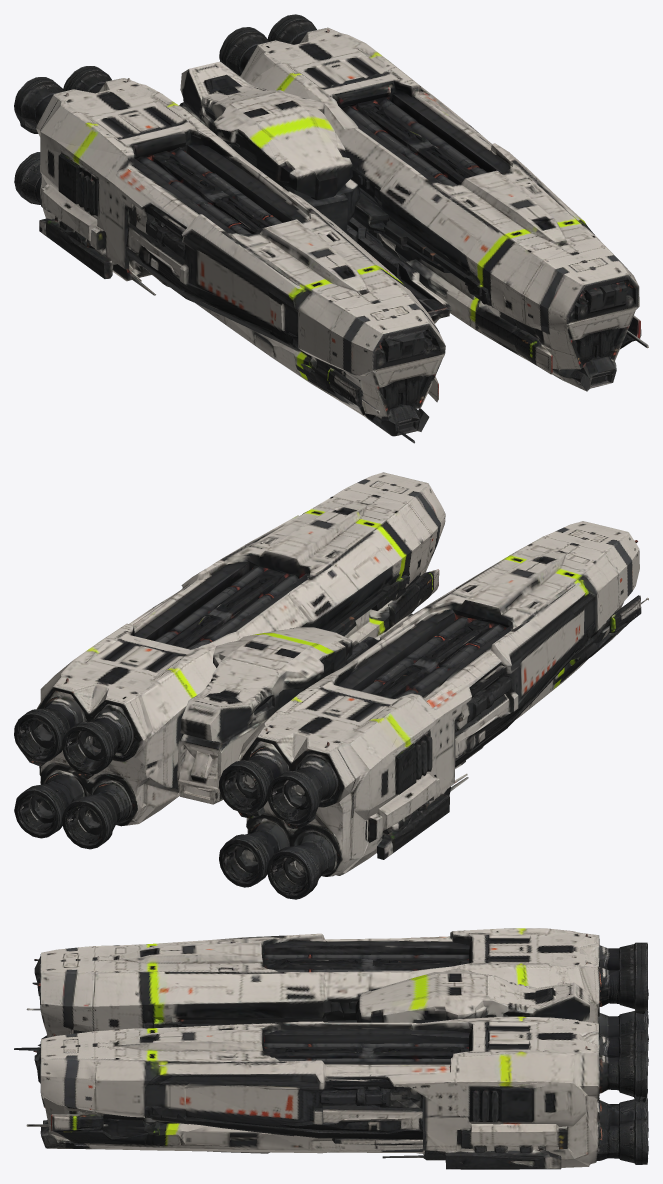
File: v4-carrier.glb
3 renders of one model, top to bottom at view 1: azimuth 30°, elevation 25°; view 2: azimuth 150°, elevation 25°; view 3: azimuth 270°, elevation 25°, orthographic. The views are drawn at different scales.
Parts seen in each view (by area): view 1: carrier_body_00; view 2: carrier_body_00; view 3: carrier_body_00.
Part boxes in pixels (left/top/right/bottom): carrier_body_00: left=14, top=14, right=648, bottom=443; carrier_body_00: left=14, top=472, right=648, bottom=899; carrier_body_00: left=14, top=928, right=648, bottom=1169.
Bounding box in the file's own units: 0.5612 × 0.2148 × 1.
Materials: 1 (1 with a texture image).
